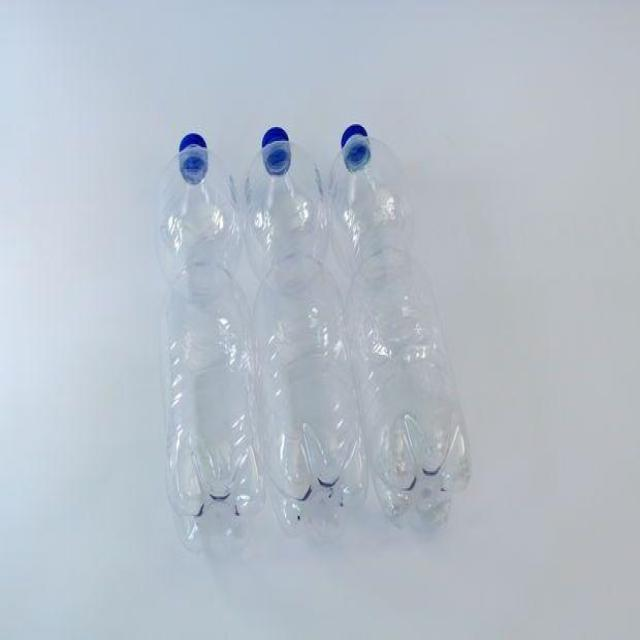plastic bottle: (328, 134, 473, 532), (244, 141, 370, 540), (157, 149, 266, 555)
plastic bottle cap: (260, 124, 290, 155), (340, 124, 370, 151), (180, 132, 207, 155)
